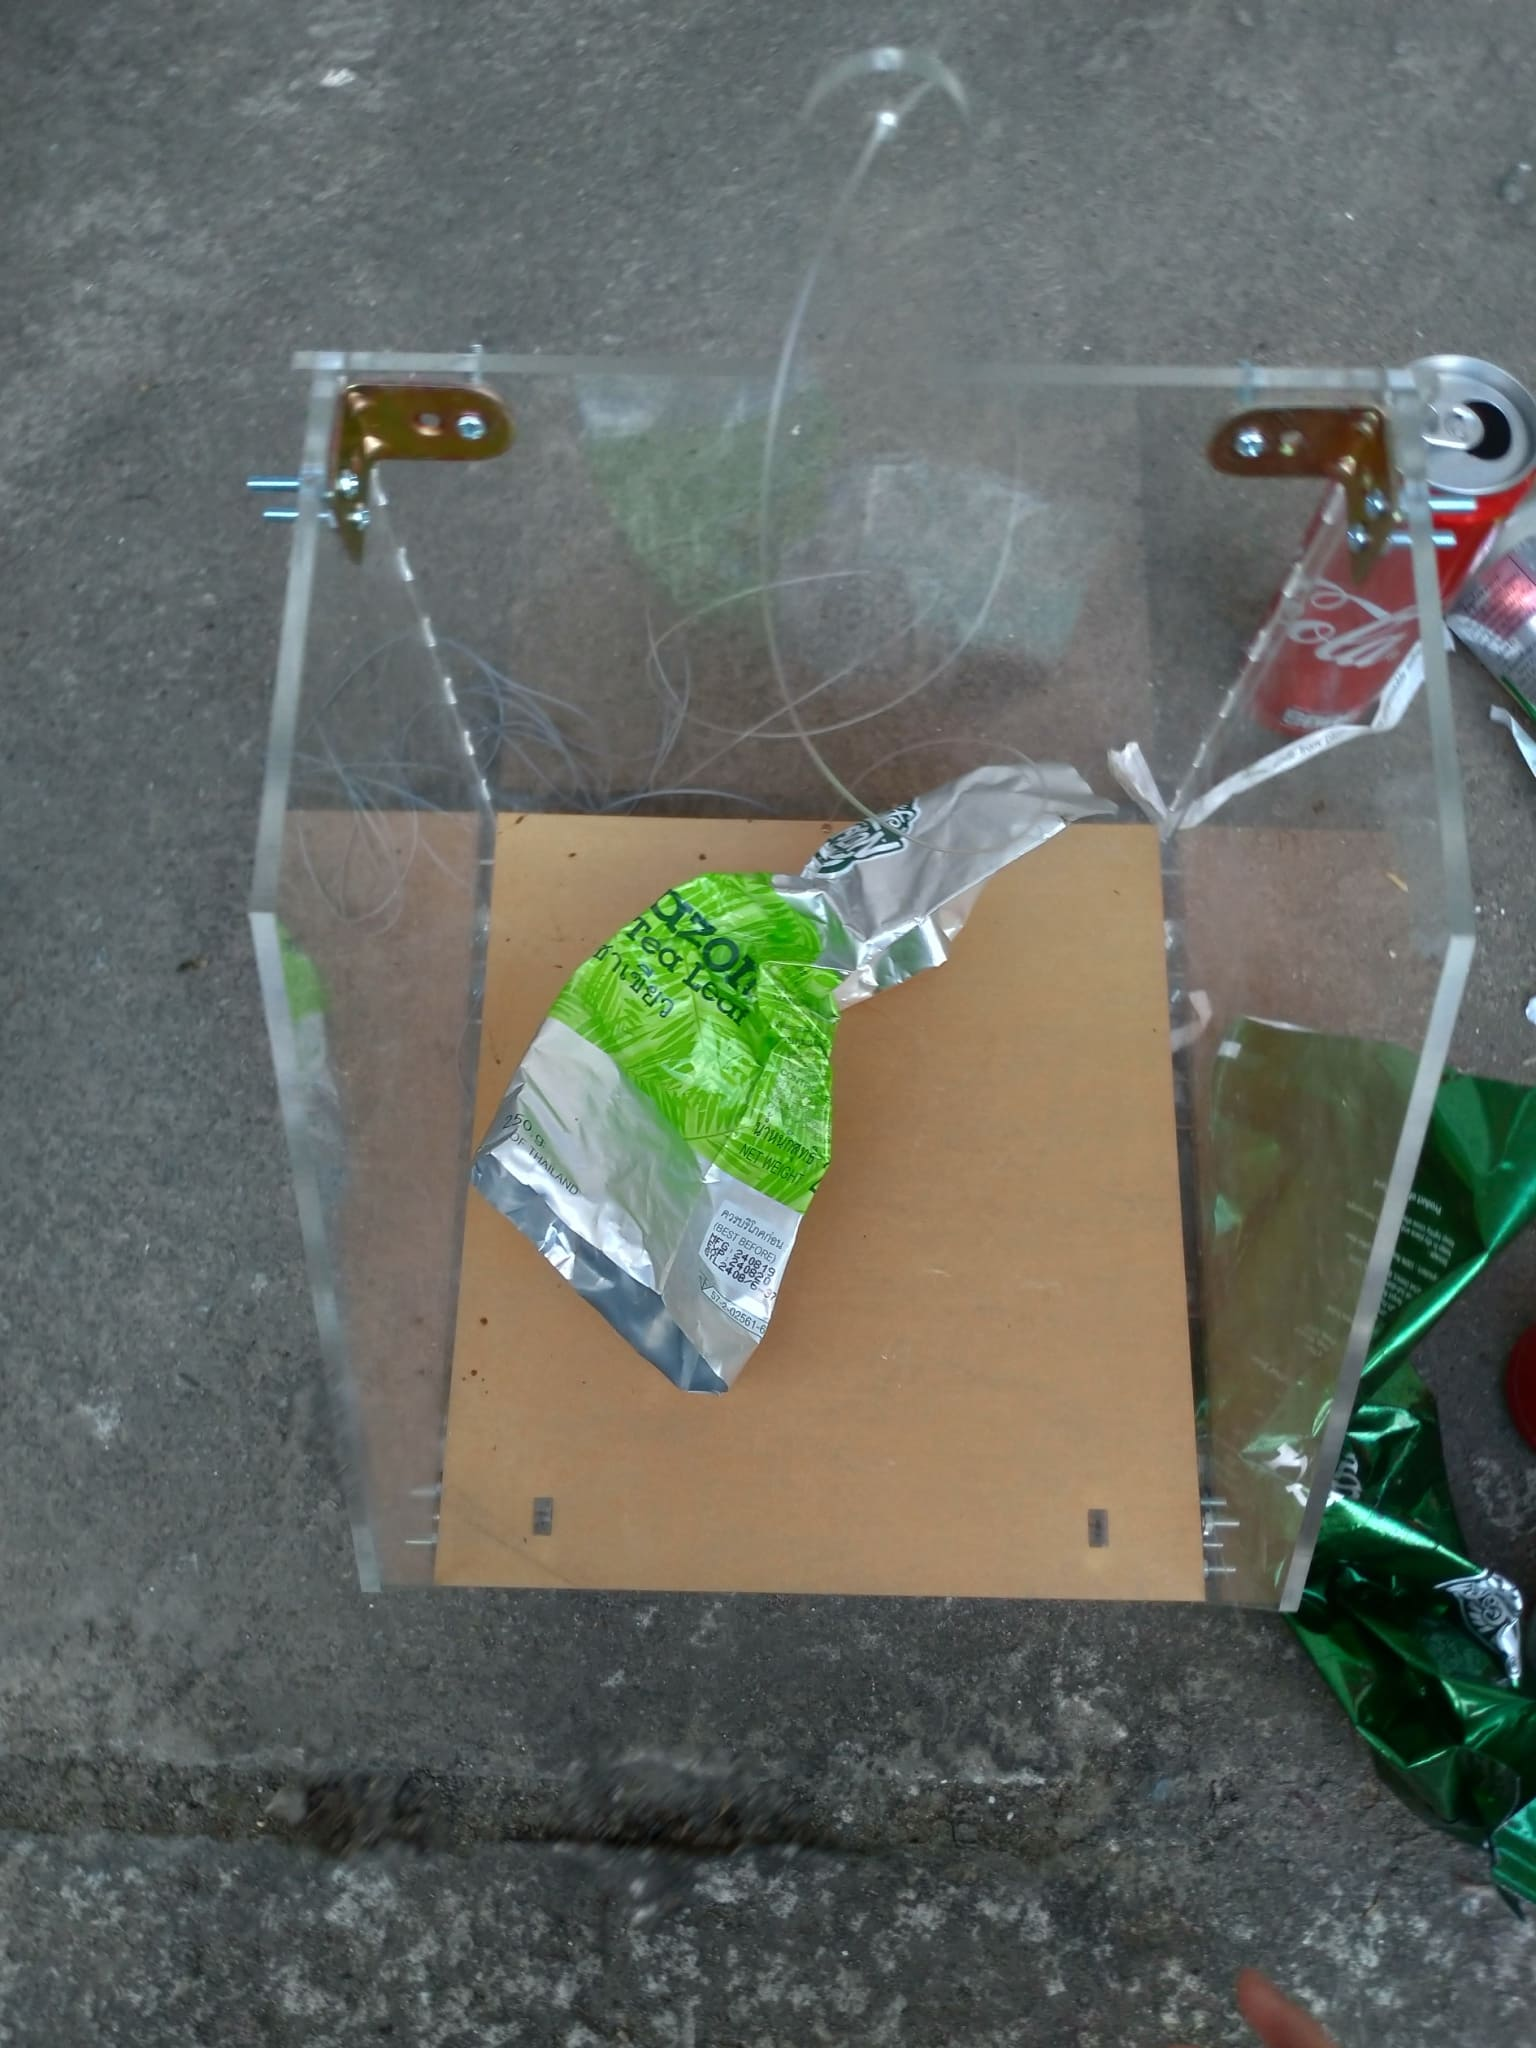AlCan: (1254, 348, 1533, 739)
Others: (473, 758, 1107, 1398), (1191, 1008, 1536, 1884)
